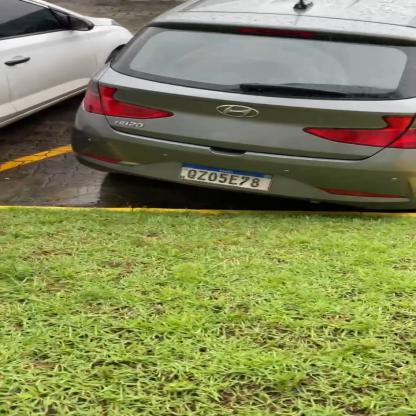Plate: (178, 158, 274, 192)
